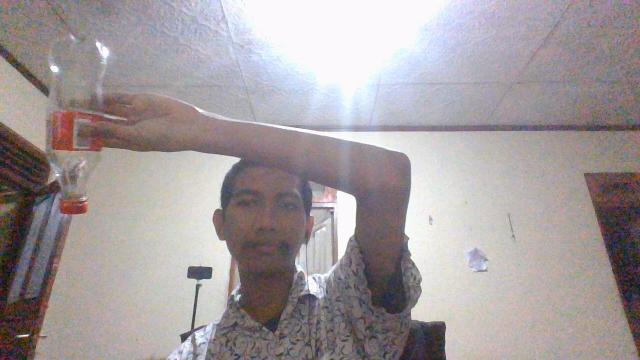coca-cola: (43, 32, 119, 216)
